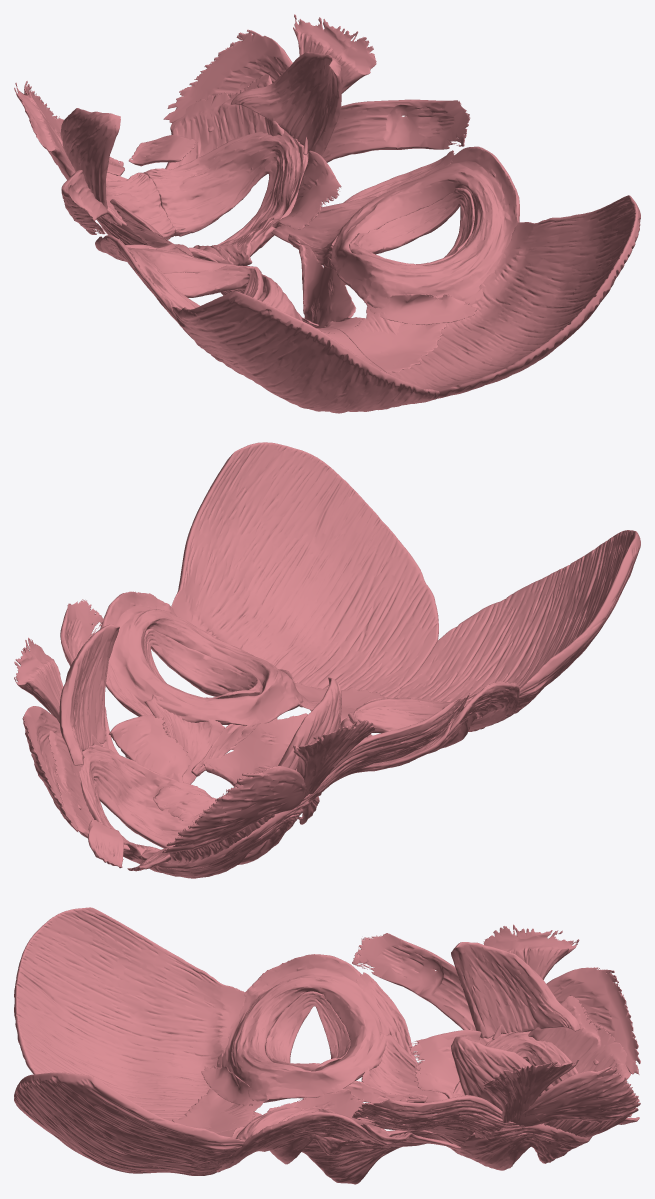
The model's file is face-muscles.glb.
The picture shows the model from 3 angles, top to bottom: view 1: azimuth 30°, elevation 25°; view 2: azimuth 150°, elevation 25°; view 3: azimuth 270°, elevation 25°; orthographic projection. The views are drawn at different scales.
Parts seen in each view (by area): view 1: frontal_muscle_gauche, frontal_muscle_droit, orbiculaire_de_l_il_partie_palpebrale_gauche, orbiculaire_de_la_bouche, grand_zygomatique_gauche, buccinateur_gauche, abaisseur_de_l_angle_de_la_bouche_gauche, orbiculaire_de_l_il_partie_palpebrale_droit, abaisseur_de_la_levre_inferieure_gauche, orbiculaire_de_l_il_partie_orbitaire_gauche, buccinateur_droit, procerus_gauche (+13 smaller); view 2: frontal_muscle_gauche, frontal_muscle_droit, orbiculaire_de_l_il_partie_palpebrale_gauche, orbiculaire_de_la_bouche, abaisseur_de_l_angle_de_la_bouche_droit, buccinateur_gauche, orbiculaire_de_l_il_partie_orbitaire_gauche, grand_zygomatique_droit, muscle_nasal_gauche, orbiculaire_de_l_il_partie_palpebrale_droit, elevateur_de_l_angle_de_la_bouche_gauche, risorius_droit (+14 smaller); view 3: frontal_muscle_droit, orbiculaire_de_l_il_partie_palpebrale_droit, frontal_muscle_gauche, buccinateur_droit, orbiculaire_de_la_bouche, grand_zygomatique_droit, abaisseur_de_l_angle_de_la_bouche_gauche, grand_zygomatique_gauche, orbiculaire_de_l_il_partie_palpebrale_gauche, abaisseur_de_l_angle_de_la_bouche_droit, abaisseur_de_la_levre_inferieure_droit, orbiculaire_de_l_il_partie_orbitaire_droit (+16 smaller).
Boxes of the visible parts, <box> form: frontal_muscle_gauche: <box>351,195,640,398</box>; frontal_muscle_droit: <box>172,291,439,413</box>; orbiculaire_de_l_il_partie_palpebrale_gauche: <box>331,146,519,309</box>; orbiculaire_de_la_bouche: <box>96,130,308,262</box>; grand_zygomatique_gauche: <box>307,99,470,162</box>; buccinateur_gauche: <box>231,52,342,155</box>; abaisseur_de_l_angle_de_la_bouche_gauche: <box>163,29,307,155</box>; orbiculaire_de_l_il_partie_palpebrale_droit: <box>100,235,302,339</box>; abaisseur_de_la_levre_inferieure_gauche: <box>165,74,283,176</box>; orbiculaire_de_l_il_partie_orbitaire_gauche: <box>349,188,474,265</box>; buccinateur_droit: <box>60,108,120,208</box>; procerus_gauche: <box>325,317,446,372</box>; frontal_muscle_gauche: <box>171,442,438,710</box>; frontal_muscle_droit: <box>387,530,640,731</box>; orbiculaire_de_l_il_partie_palpebrale_gauche: <box>100,591,303,726</box>; orbiculaire_de_la_bouche: <box>79,744,309,878</box>; abaisseur_de_l_angle_de_la_bouche_droit: <box>160,765,308,853</box>; buccinateur_gauche: <box>59,624,119,765</box>; orbiculaire_de_l_il_partie_orbitaire_gauche: <box>144,628,262,698</box>; grand_zygomatique_droit: <box>303,692,470,809</box>; muscle_nasal_gauche: <box>203,713,307,787</box>; orbiculaire_de_l_il_partie_palpebrale_droit: <box>340,681,519,771</box>; elevateur_de_l_angle_de_la_bouche_gauche: <box>109,714,191,782</box>; risorius_droit: <box>292,720,376,801</box>; frontal_muscle_droit: <box>14,907,262,1128</box>; orbiculaire_de_l_il_partie_palpebrale_droit: <box>217,954,390,1102</box>; frontal_muscle_gauche: <box>14,1072,244,1175</box>; buccinateur_droit: <box>451,942,580,1038</box>; orbiculaire_de_la_bouche: <box>447,1031,592,1170</box>; grand_zygomatique_droit: <box>352,933,493,1045</box>; abaisseur_de_l_angle_de_la_bouche_gauche: <box>511,1065,640,1126</box>; grand_zygomatique_gauche: <box>352,1095,515,1140</box>; orbiculaire_de_l_il_partie_palpebrale_gauche: <box>216,1107,392,1172</box>; abaisseur_de_l_angle_de_la_bouche_droit: <box>492,967,640,1074</box>; abaisseur_de_la_levre_inferieure_droit: <box>528,995,630,1080</box>; orbiculaire_de_l_il_partie_orbitaire_droit: <box>265,991,350,1071</box>.
Bounding box in the file's own units: 113 × 56.21 × 170.
